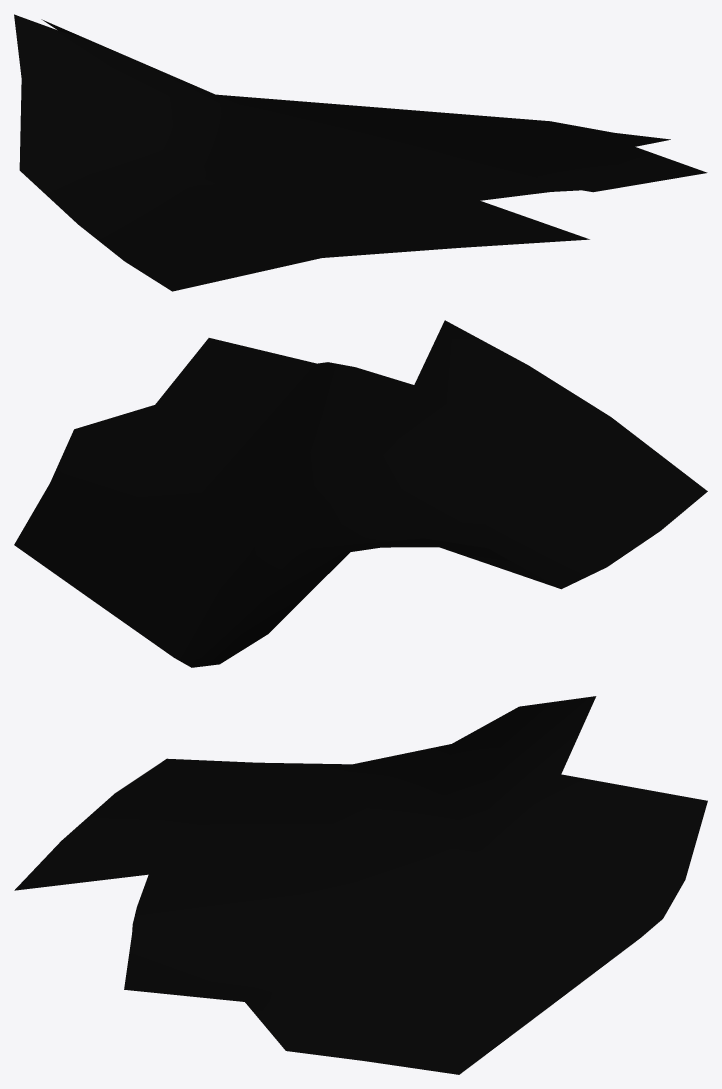
The model's file is HTOWN01_TREESHADOWS12.fbx.
3 renders of one model, top to bottom at view 1: azimuth 30°, elevation 25°; view 2: azimuth 150°, elevation 25°; view 3: azimuth 270°, elevation 25°, orthographic. The views are drawn at different scales.
Visible parts, largest first — view 1: HTOWN01_TREESHADOWS12; view 2: HTOWN01_TREESHADOWS12; view 3: HTOWN01_TREESHADOWS12.
Part boxes in pixels (<box>): HTOWN01_TREESHADOWS12: <box>14,14,707,291</box>; HTOWN01_TREESHADOWS12: <box>14,320,707,667</box>; HTOWN01_TREESHADOWS12: <box>14,696,707,1074</box>.
Bounding box in the file's own units: 192583 × 54622 × 213152.
1 material, 1 textured.
